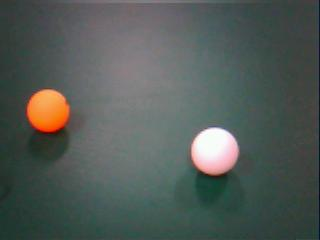oball: (26, 89, 69, 133)
